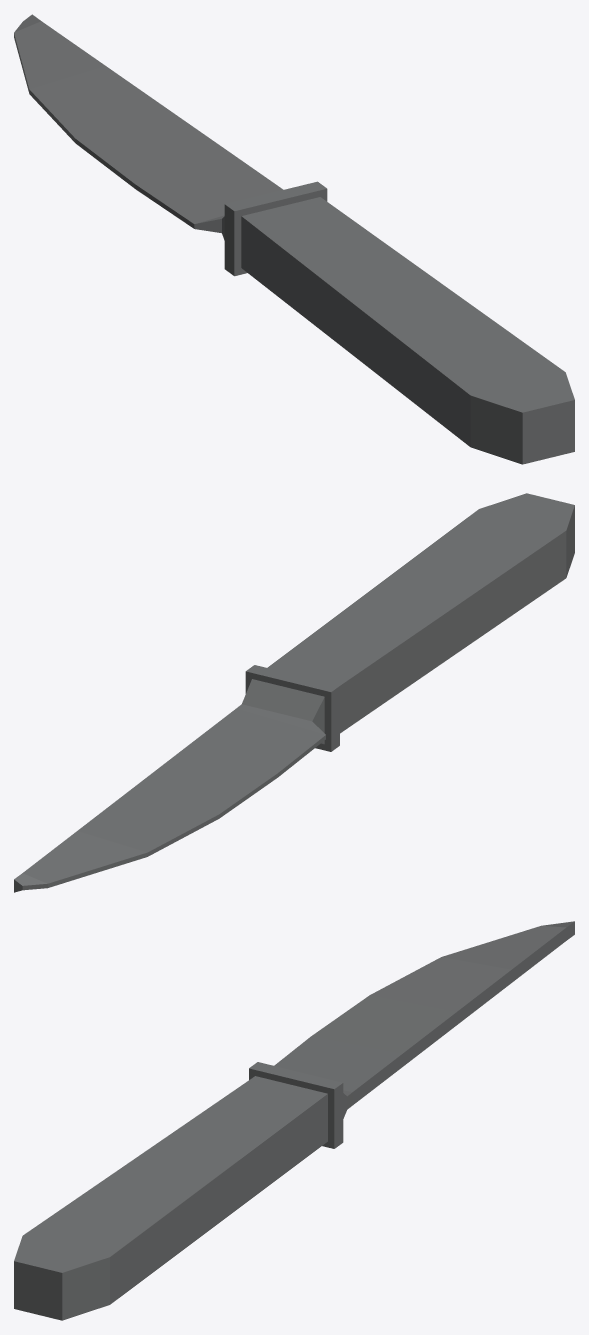
Rendered from _nife.fbx.
The picture shows the model from 3 angles, top to bottom: view 1: azimuth 30°, elevation 25°; view 2: azimuth 150°, elevation 25°; view 3: azimuth 330°, elevation 25°; orthographic projection. The views are drawn at different scales.
Visible parts, largest first — view 1: Cube.264; view 2: Cube.264; view 3: Cube.264.
Part boxes in pixels (<box>): Cube.264: <box>14,14,574,464</box>; Cube.264: <box>14,493,574,892</box>; Cube.264: <box>14,921,574,1320</box>.
Size of the model in its own units: 3.28 by 1.87 by 28.73.
